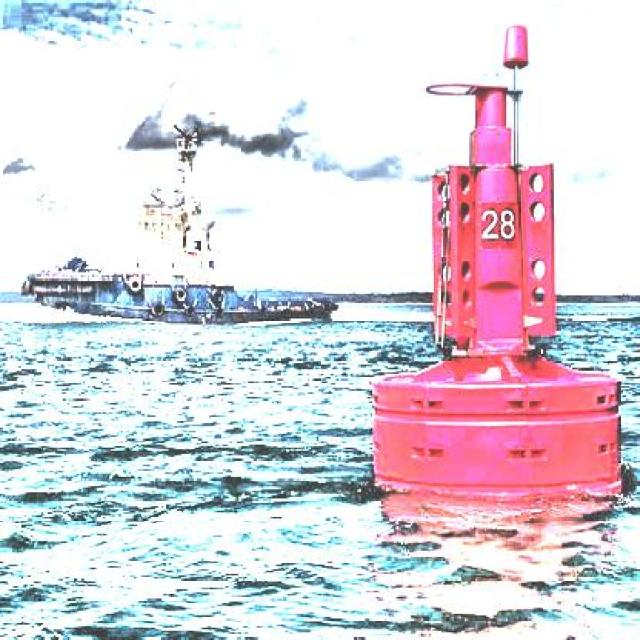Red Buoy: (375, 86, 623, 494)
